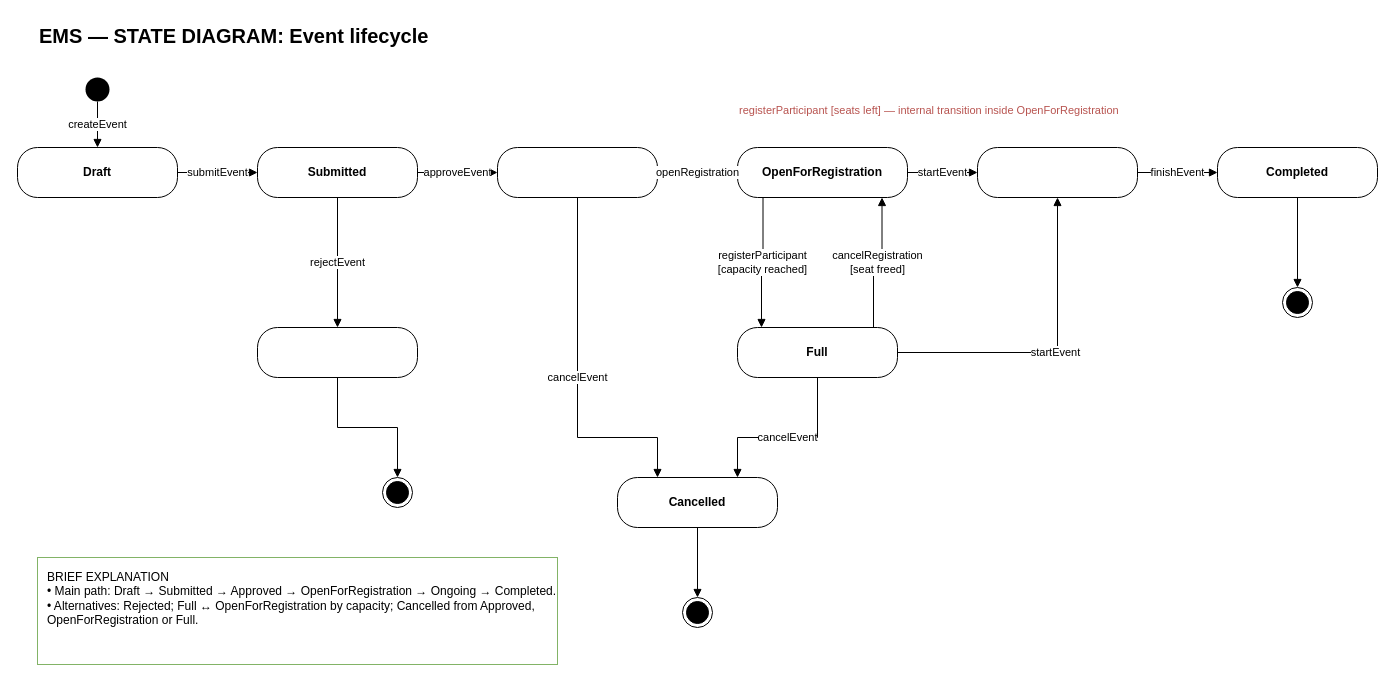
Image size: 1395x682. Some labels were removed from this diagram. Each missing label, with the centre of its shape:
"Approved" goes at pixel 577 172.
"Ongoing" goes at pixel 1057 172.
"Rejected" goes at pixel 337 352.
